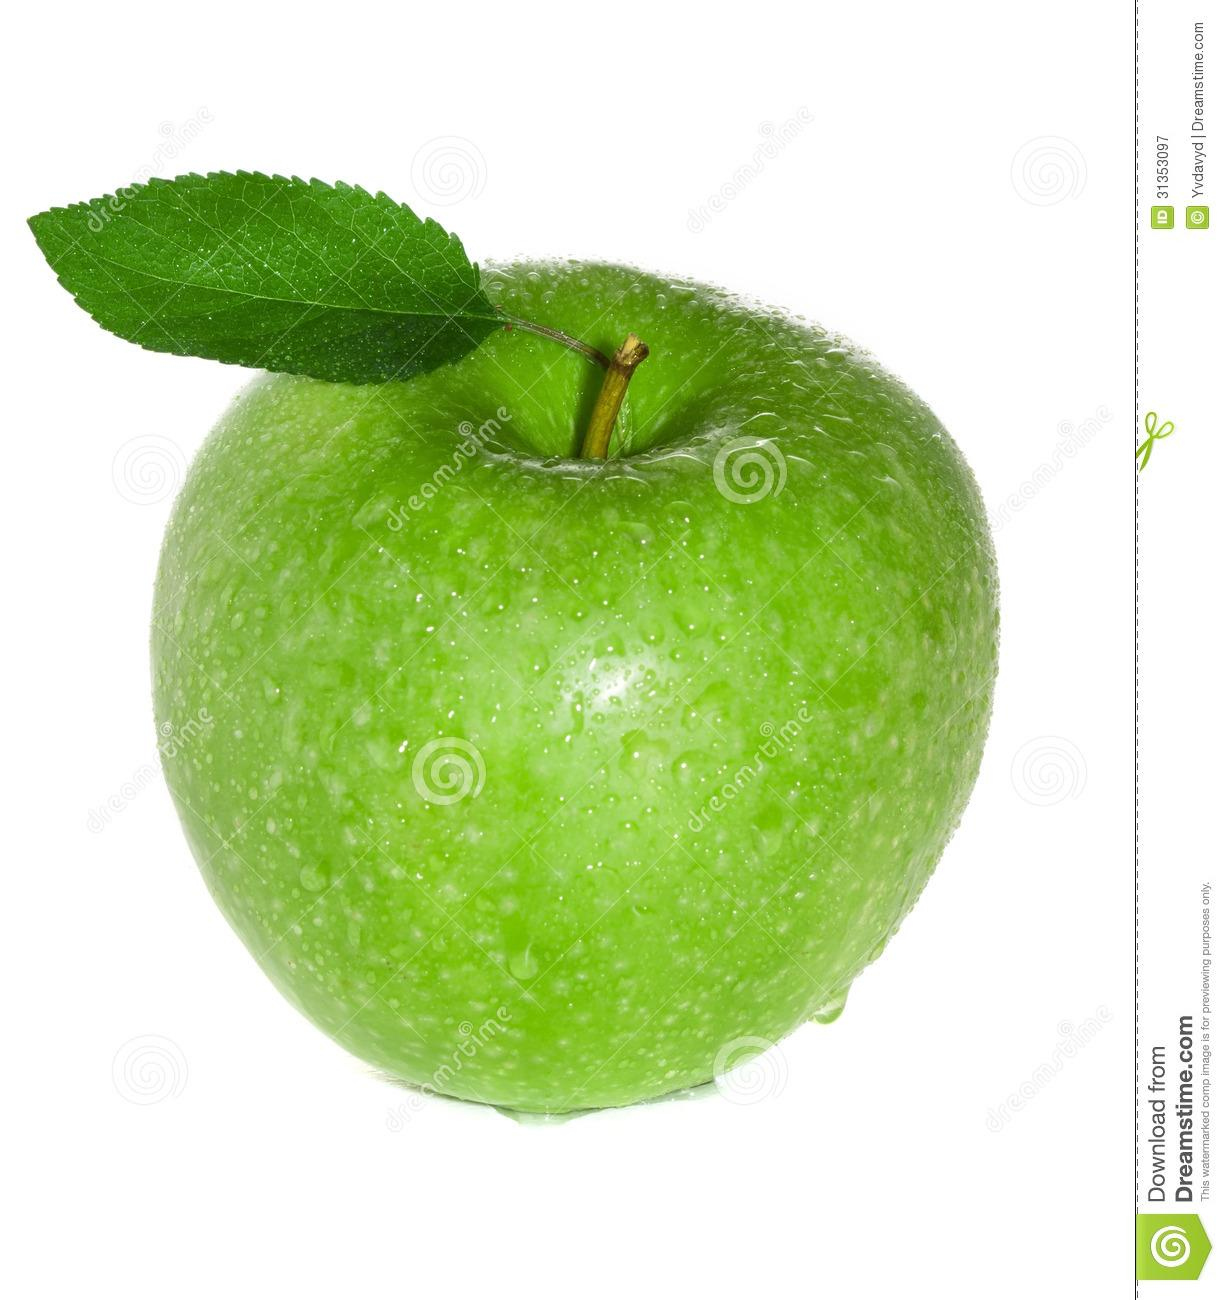Apple leaf: (5, 140, 528, 408)
